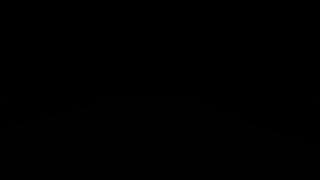go_ahead: (191, 71, 200, 81)
